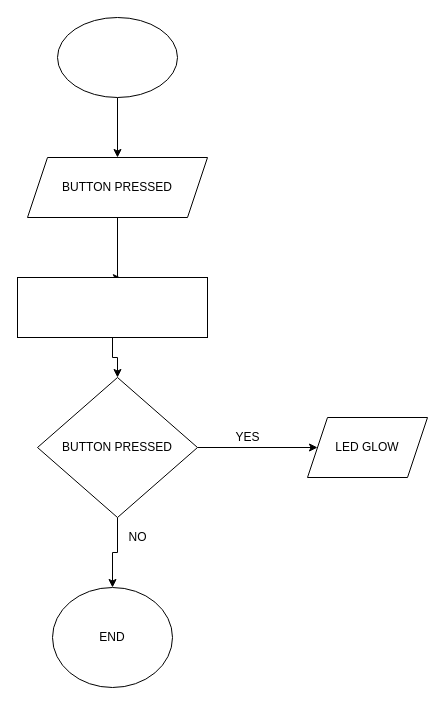
Image size: 445x705. Some labels were removed from this diagram. Each missing label, with the box of its shape:
INFORMATION SENDS TO MCU: (16, 276, 208, 338)
START: (56, 16, 178, 98)
